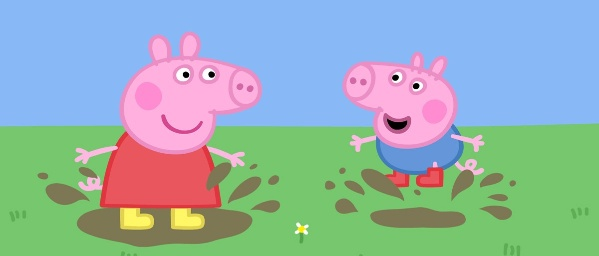Peppa: (74, 29, 264, 232)
